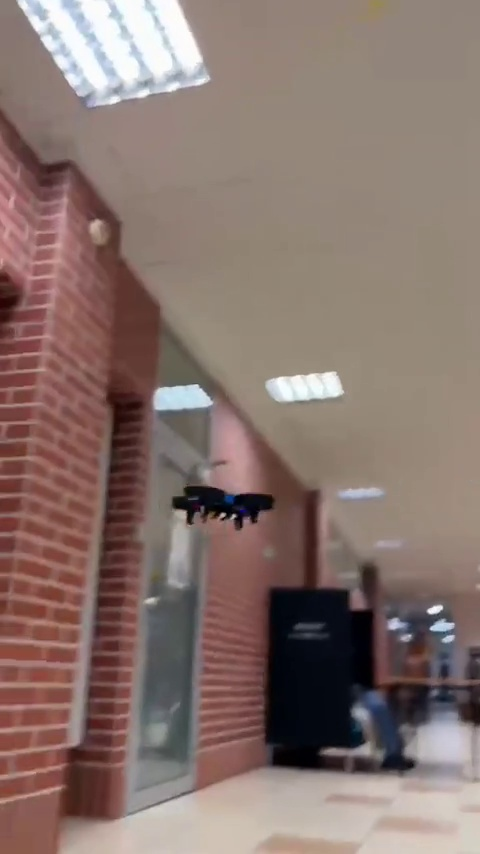drone: (170, 485, 271, 523)
